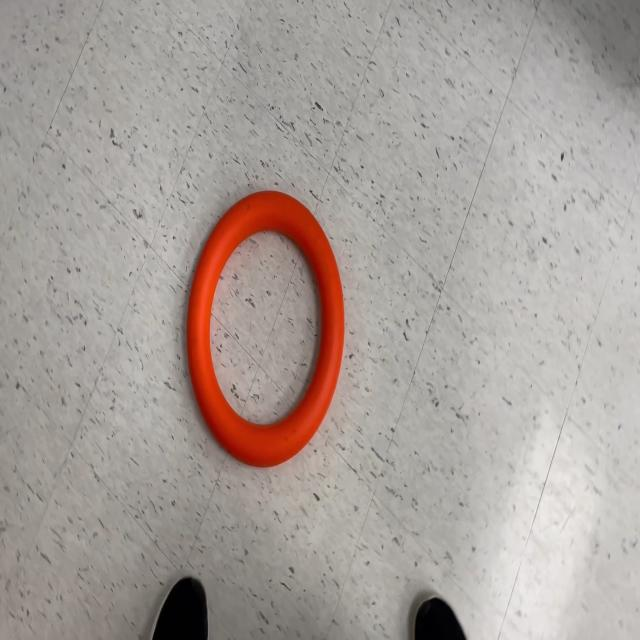note: (187, 190, 344, 468)
